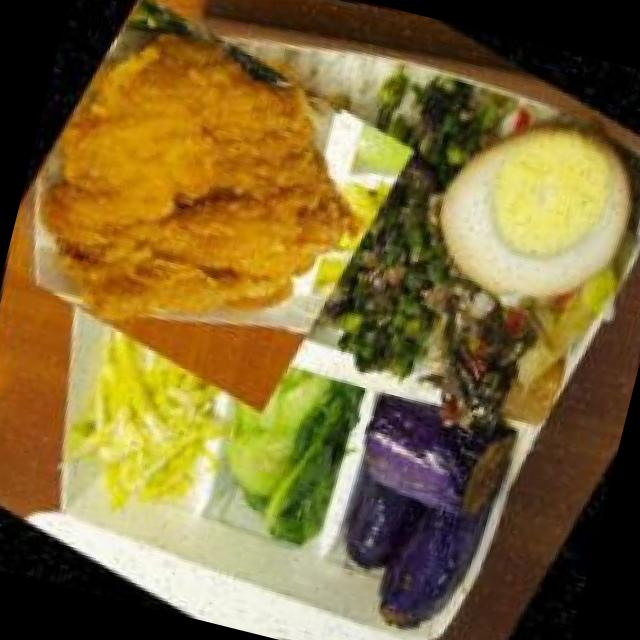fried_chicken: (0, 0, 460, 456)
